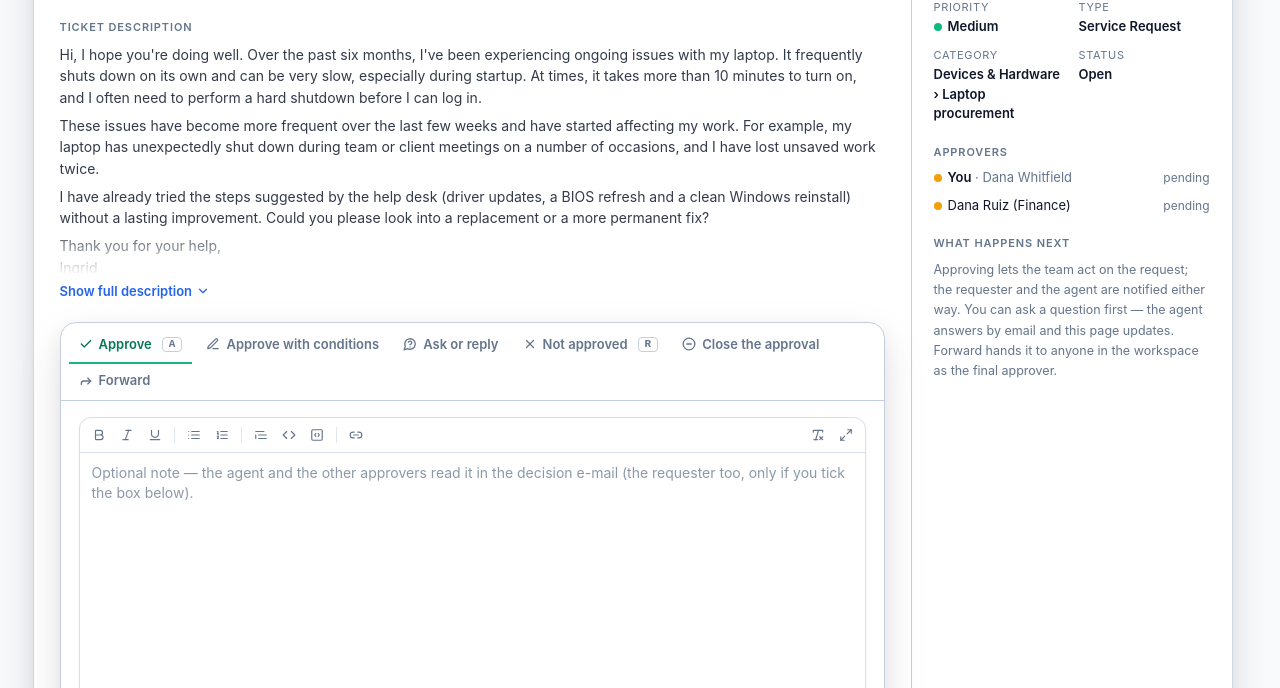
Test case: PublicApprovalDecision (approval redesign) › approve with conditions: the list is required, confirmed, posted, and the banner says it waits on the technician
(page scrolled)
Step 1. Click the tab "Approve with conditions" → (293, 345), box [196,326,389,364]
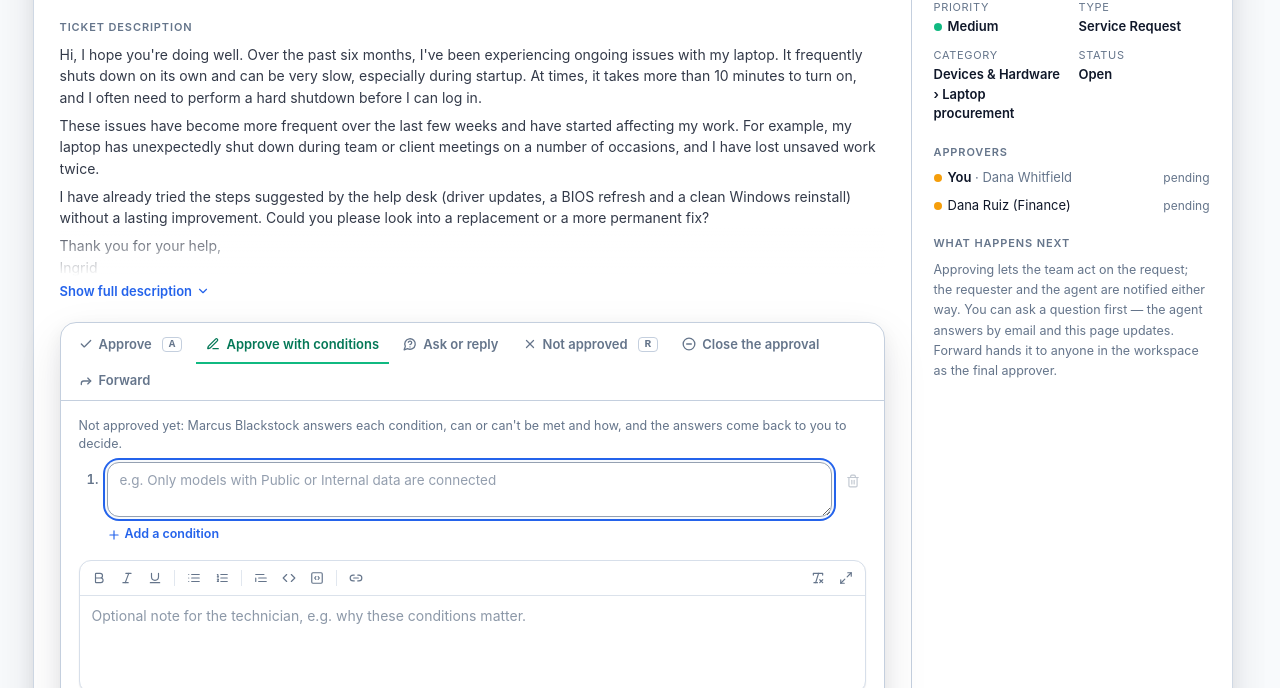
Step 2. Type "UAT only — production needs a second review." into the text box named "Condition 1" → (469, 490), box [106,462,832,517]
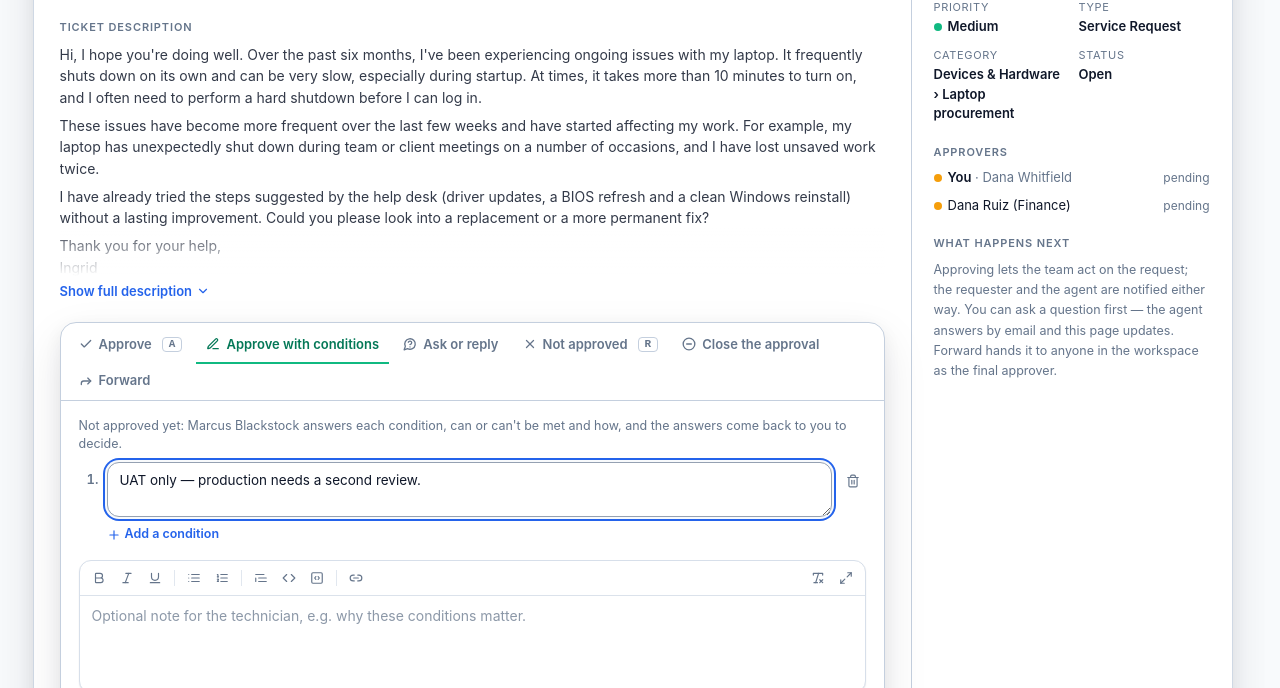
Step 3. Click the button "Add a condition" → (163, 534), box [106,525,219,544]
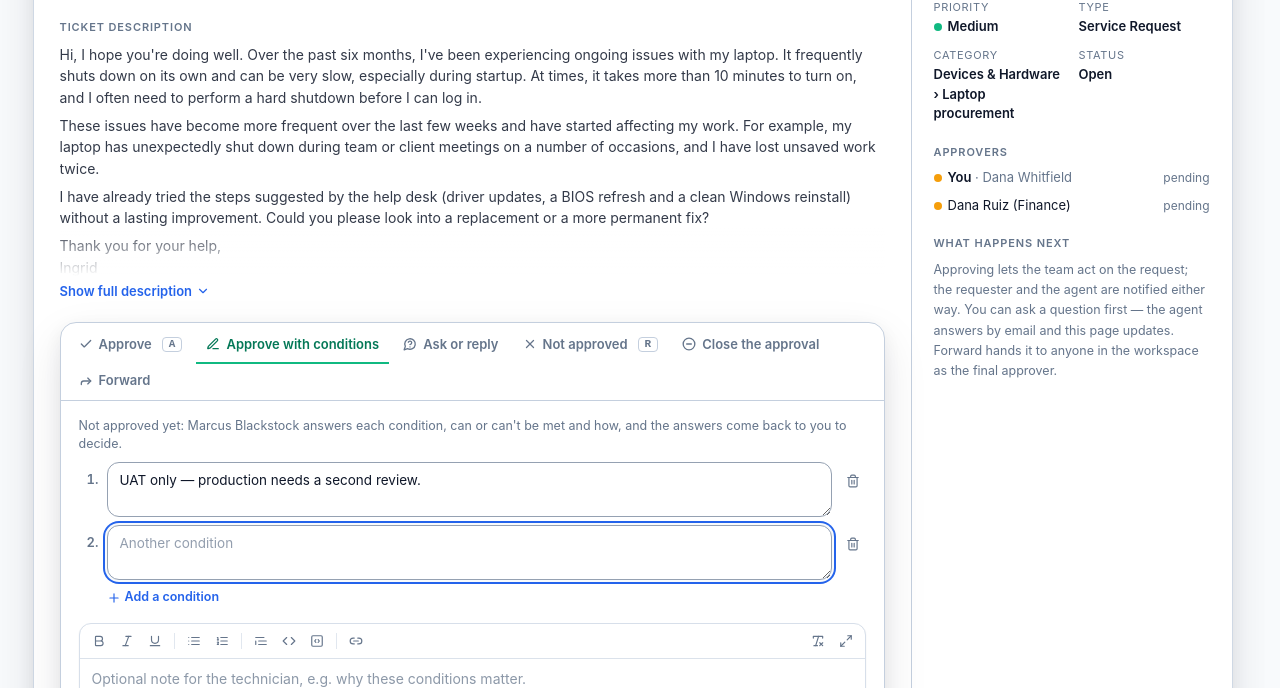
Step 4. Type "Licensed seats only" into the text box named "Condition 2" → (469, 553), box [106,525,832,580]
(page scrolled)
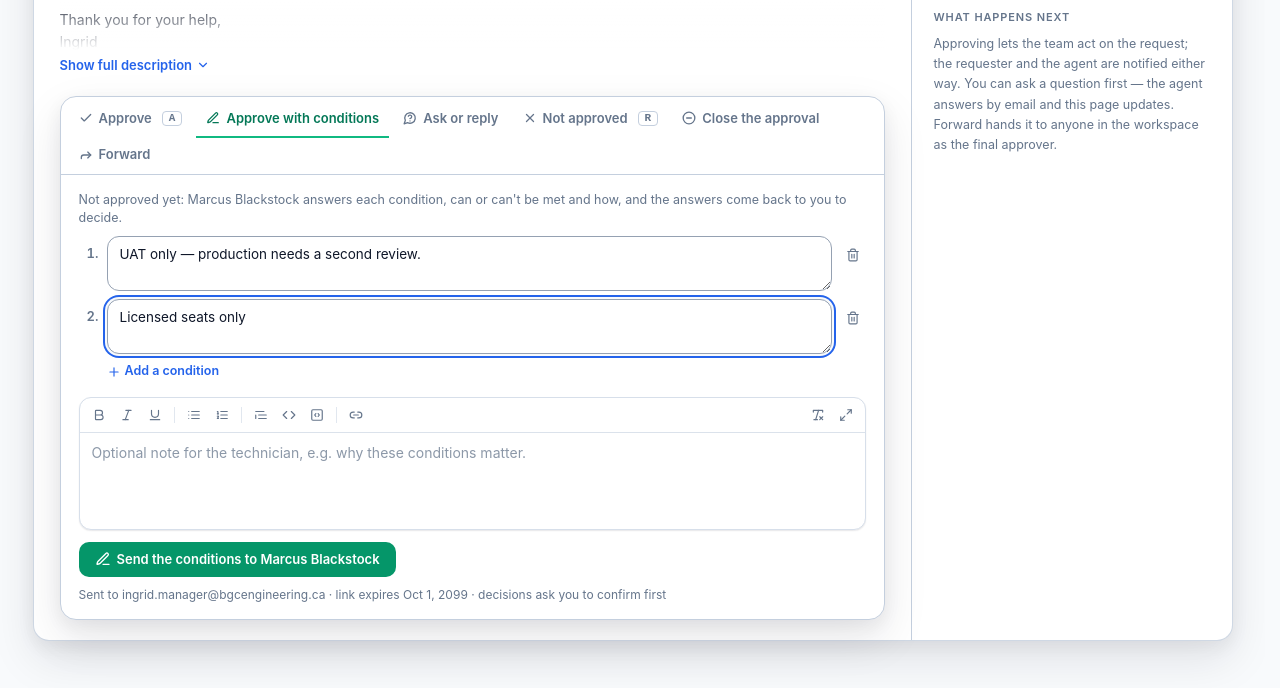
Now the button "Send the conditions to Marcus Blackstock" is enabled
Step 5. Click the button "Send the conditions to Marcus Blackstock" → (237, 559), box [78,542,396,577]
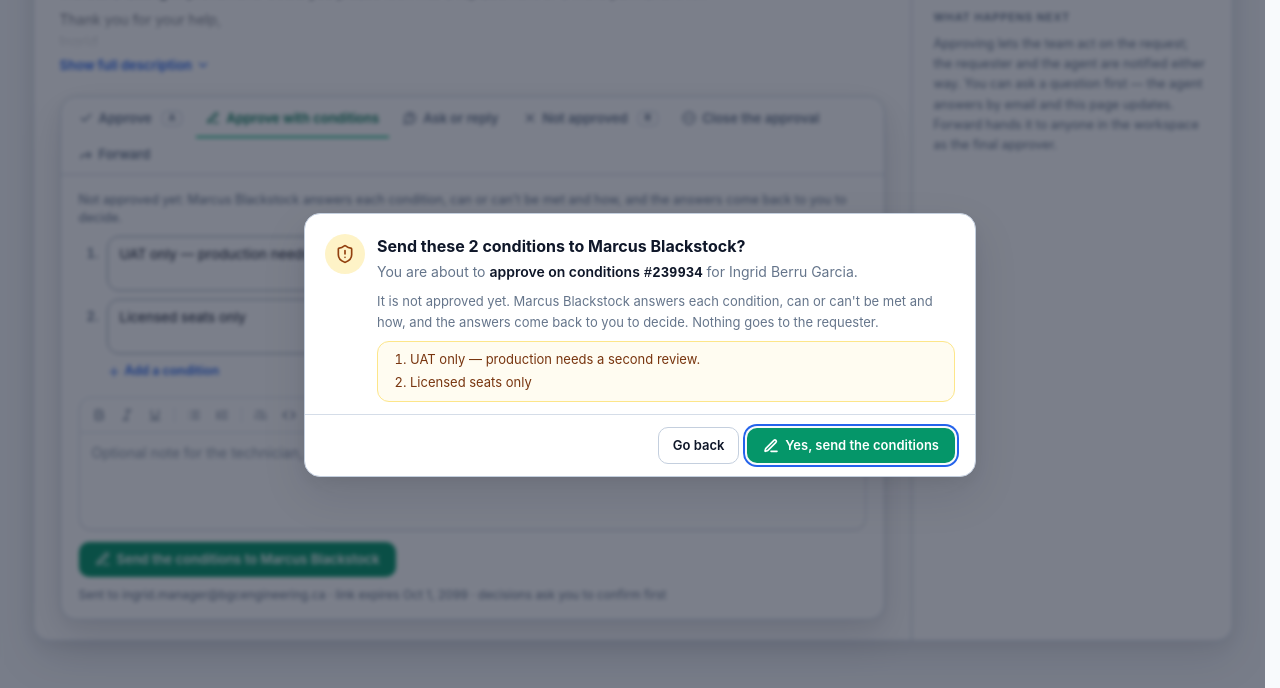
Now the dialog shows "Send these 2 conditions to", box [377,236,746,256]
Now the dialog shows "It is not approved yet", box [377,293,933,330]
Now the list with test id "confirm-conditions" shows "Licensed seats only", box [410,374,532,390]
Step 6. Click the button "Yes, send the conditions" → (851, 446), box [747,428,955,463]
(page scrolled)
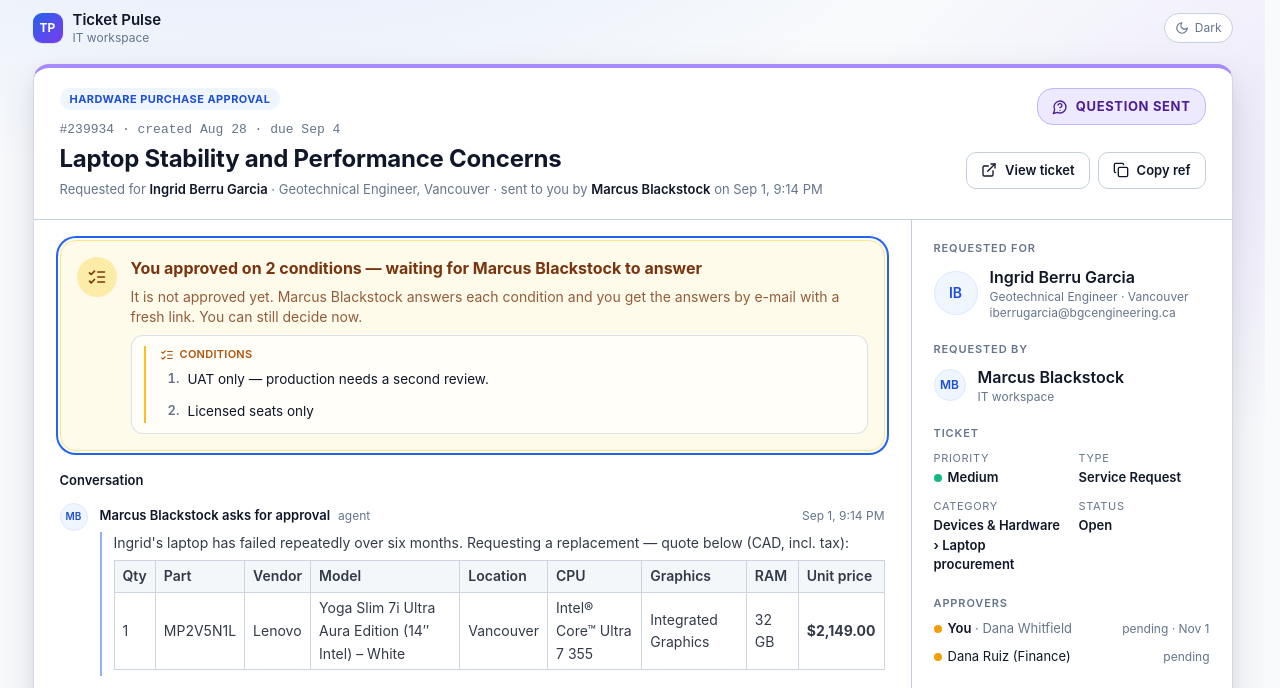
Now the text "You approved on 2 conditions — waiting for" is shown, box [130,258,702,278]
Now the element with test id "conditions-review" shows "Licensed seats only", box [188,403,314,419]
